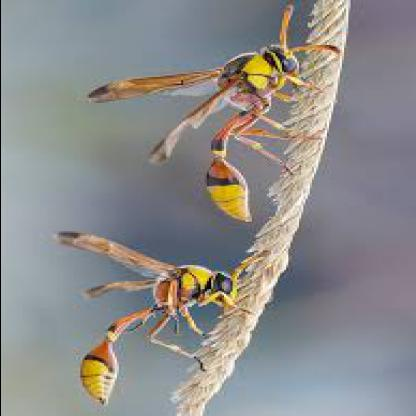other: (133, 21, 341, 225), (47, 243, 257, 403)
